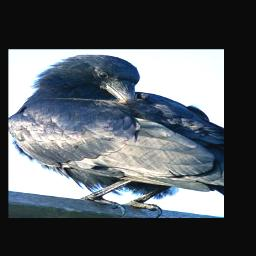Crow: (10, 54, 224, 217)
